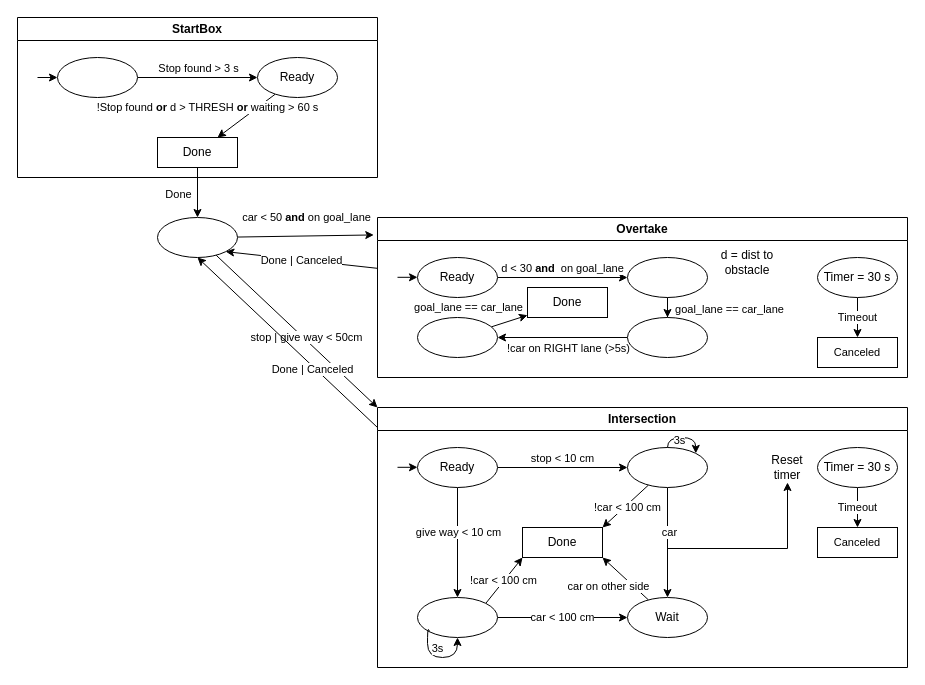
Image size: 925x685. Some labels were removed from this diagram. Here are the shapes that lost their labels. From the top down, the centre of each, then its label:
At (97,77): "Search".
At (197,237): "Drive".
At (667,277): "SwitchLane".
At (457,337): "SwitchLane Back".
At (667,337): "Stay".
At (667,467): "Stop".
At (457,617): "Give Way".
